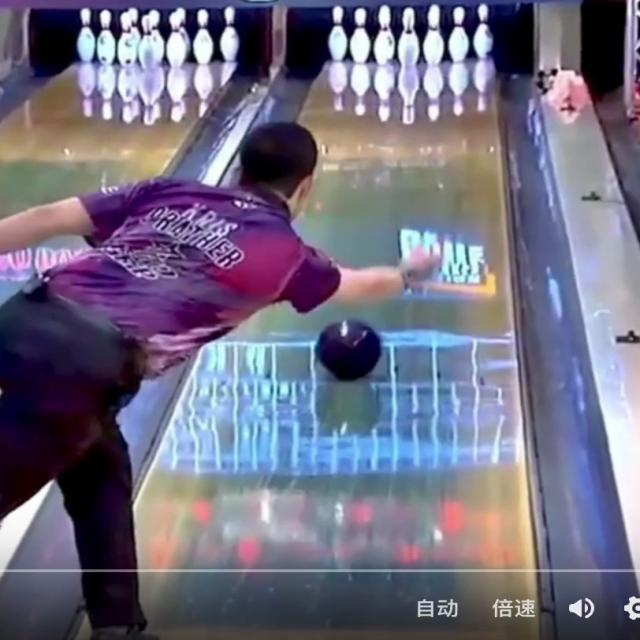alley: (137, 60, 537, 639)
balls: (315, 320, 381, 381)
bottle: (328, 4, 493, 66)
